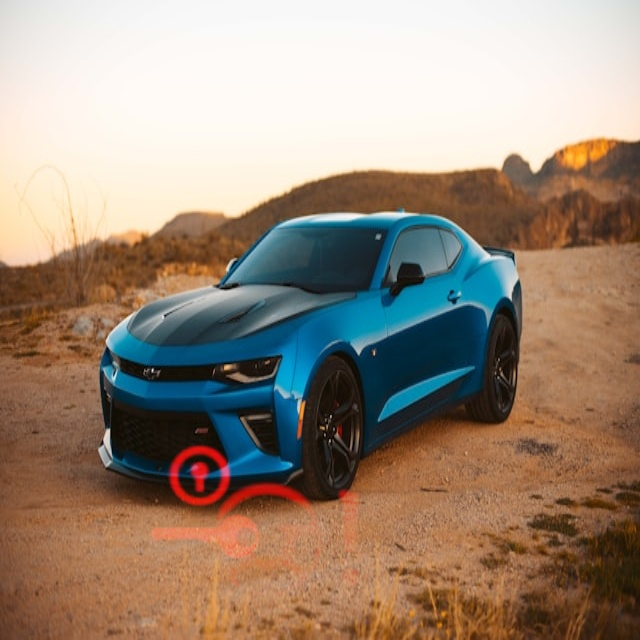symbol: (194, 451, 378, 635), (124, 424, 284, 584), (98, 22, 220, 144)
